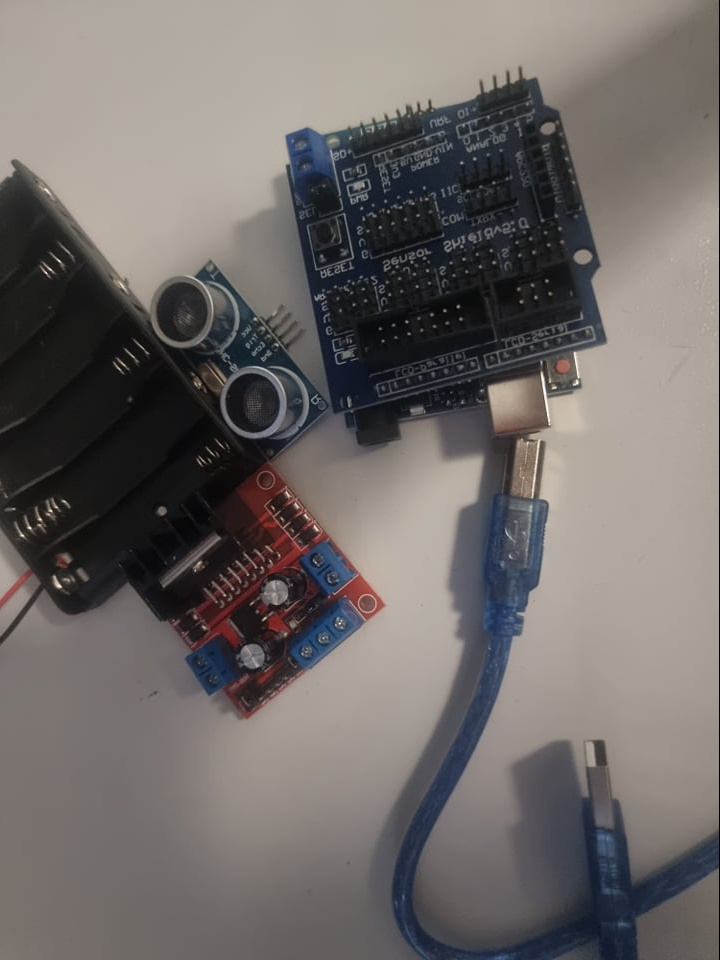5V EXPANSION: (285, 73, 596, 370)
BATTERY BOX: (1, 159, 250, 609)
MOTOR: (128, 480, 379, 724)
SENSOR: (150, 259, 316, 448)
UNO R3: (343, 354, 604, 449)
